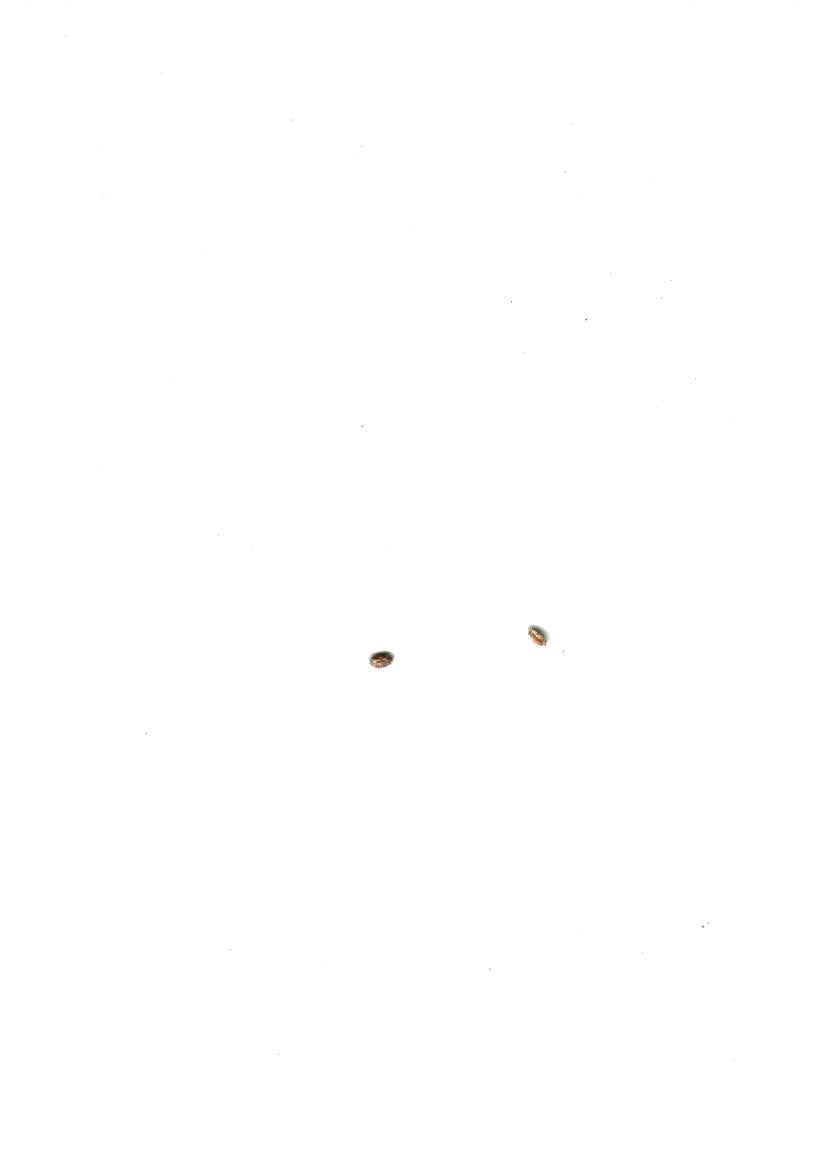grains: (514, 608, 562, 659), (360, 643, 403, 689)
